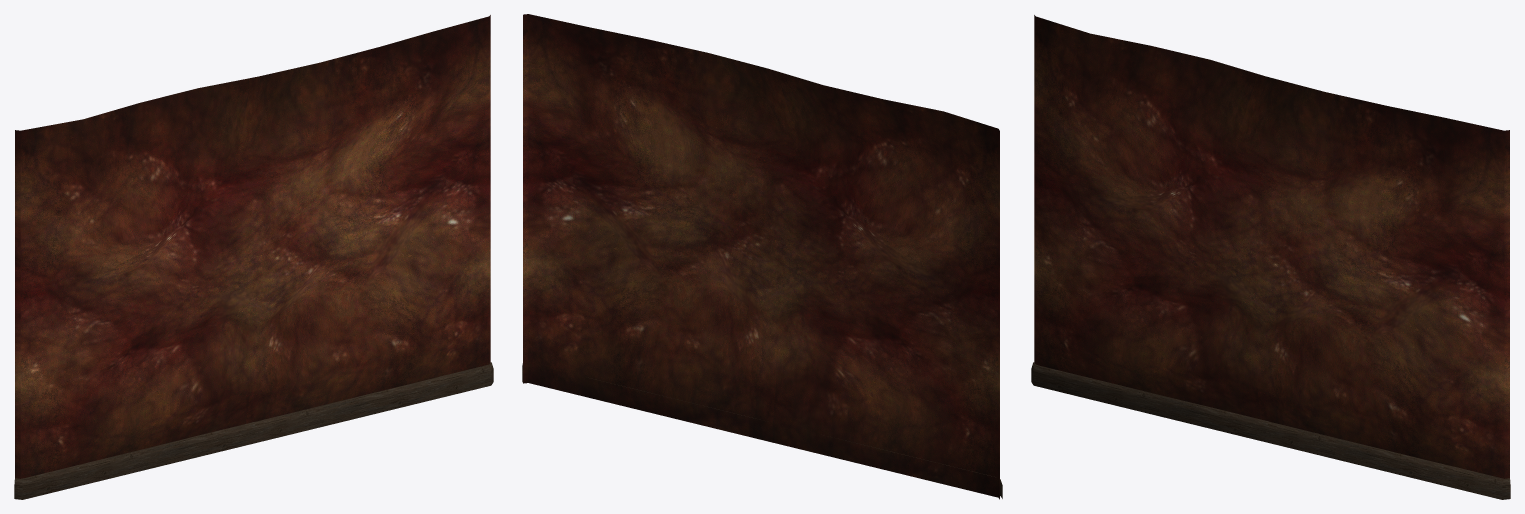
File: fleshywall.fbx
3 views of the same model, side by side, from view 1: azimuth 30°, elevation 25°; view 2: azimuth 150°, elevation 25°; view 3: azimuth 330°, elevation 25° (orthographic).
Parts seen in each view (by area): view 1: wall_1.004; view 2: wall_1.004; view 3: wall_1.004.
Boxes of the visible parts, <box> form: wall_1.004: <box>14,15,493,499</box>; wall_1.004: <box>522,14,1002,499</box>; wall_1.004: <box>1031,15,1510,499</box>.
Bounding box in the file's own units: 409 × 300 × 20.39.
